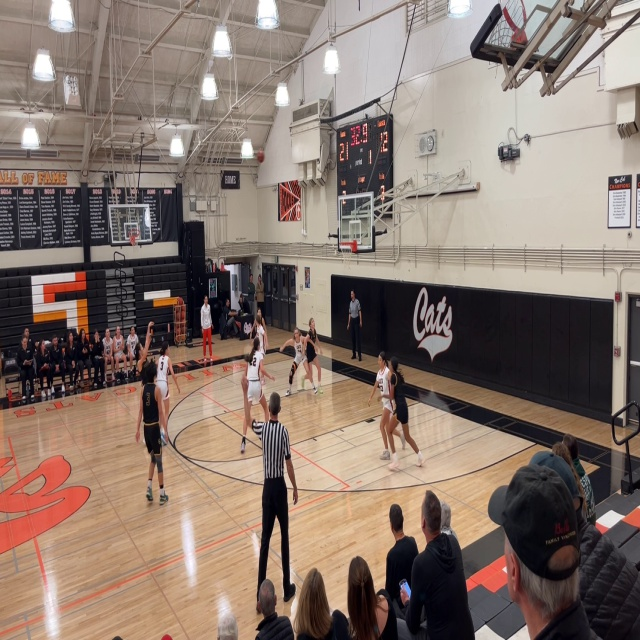Basketball: (256, 151, 264, 162)
